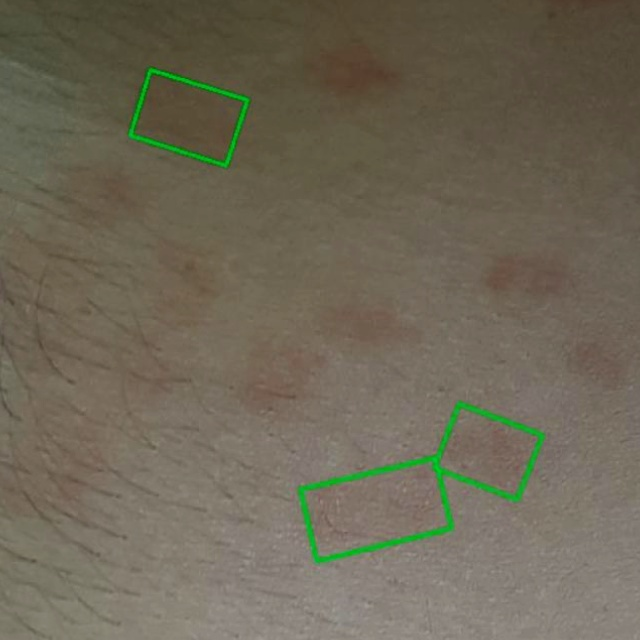Tinea Corporis: (300, 458, 451, 561), (129, 70, 246, 166), (433, 403, 541, 500)
